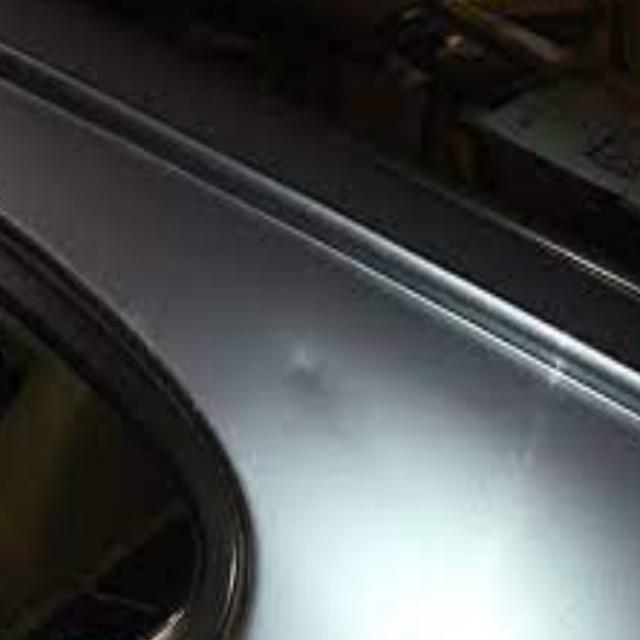dents: (276, 328, 375, 426)
